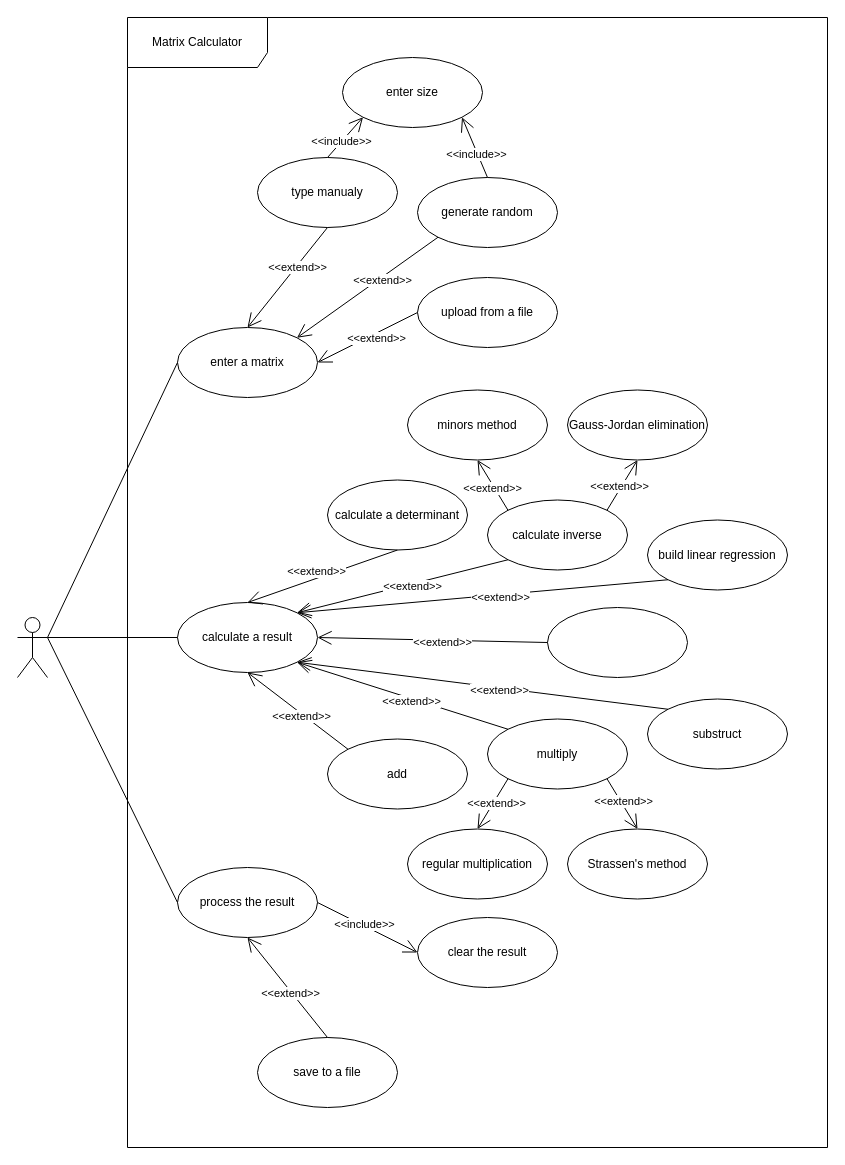
The diagram is 845 pixels wide and 1165 high, and some of its shapes have lost their labels. Here are the shapes that lost their labels. From the top down, the box of each, then its label:
(16, 616, 48, 678): User
(546, 606, 688, 678): check for equality
